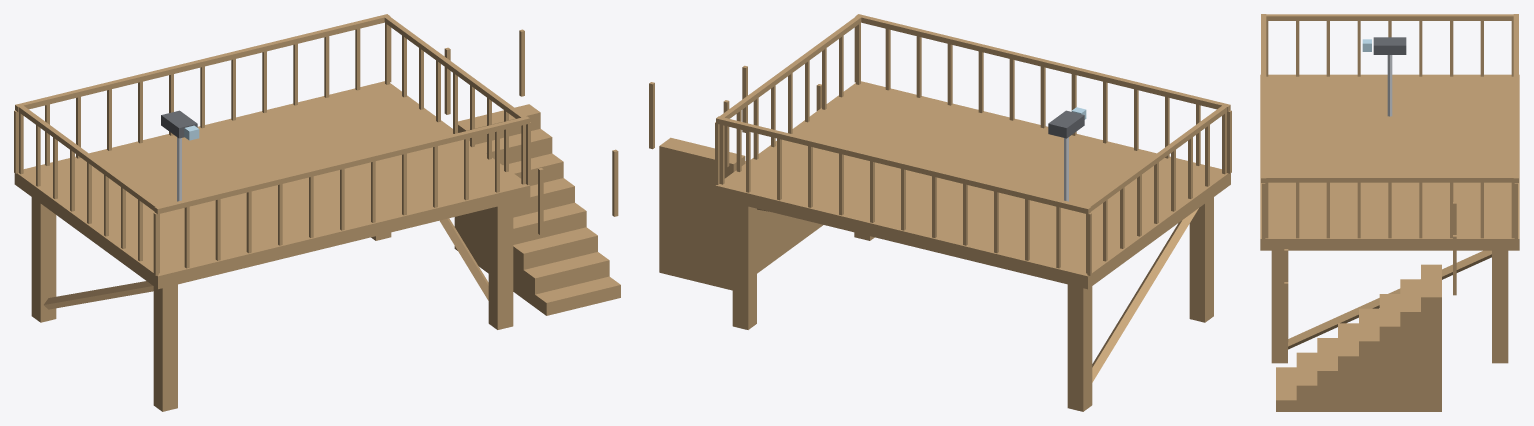
The model's file is ski-resort-and-snow-park-viewing-deck-0993e044__26003.glb.
The picture shows the model from 3 angles, left to right: view 1: azimuth 30°, elevation 25°; view 2: azimuth 150°, elevation 25°; view 3: azimuth 270°, elevation 25°; orthographic projection. The views are drawn at different scales.
Visible parts, largest first — view 1: viewing-deck; view 2: viewing-deck; view 3: viewing-deck.
Part boxes in pixels (x1,y1,x2,y2): viewing-deck: (14,14,620,411); viewing-deck: (649,14,1231,411); viewing-deck: (1260,14,1519,411).
Bounding box in the file's own units: 7.66 × 3.46 × 4.
